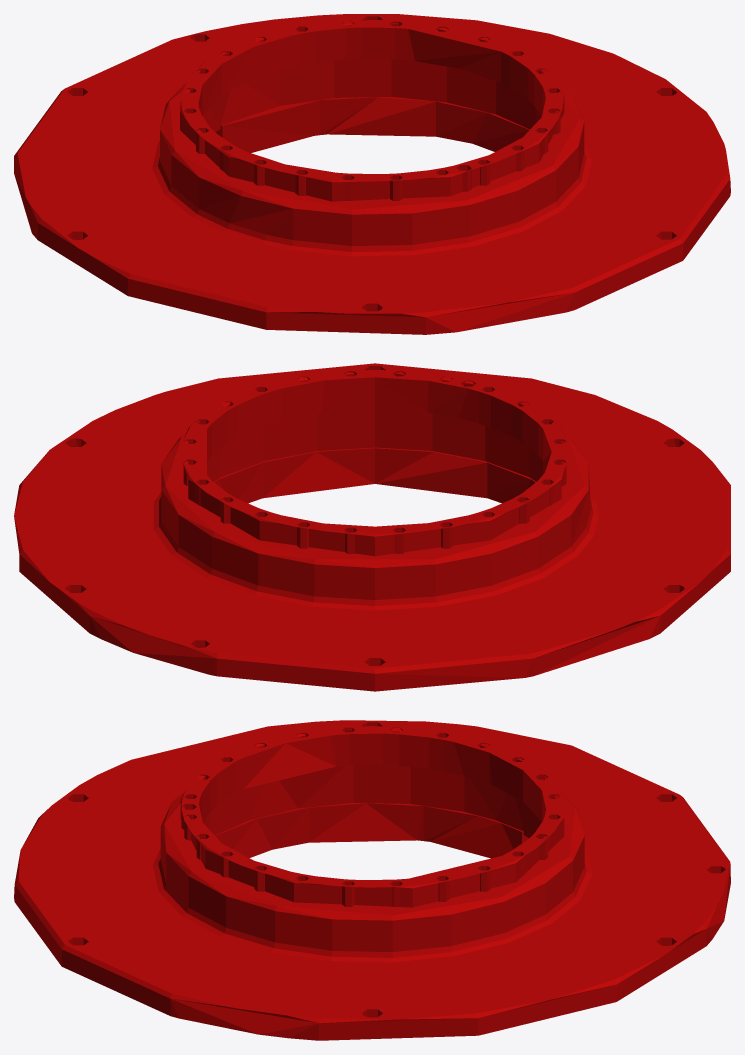
The model's file is manipulator_base_link.dae.
3 views of the same model, one above another, from view 1: azimuth 30°, elevation 25°; view 2: azimuth 150°, elevation 25°; view 3: azimuth 270°, elevation 25° (orthographic).
Parts seen in each view (by area): view 1: Manipulator_Base_Link; view 2: Manipulator_Base_Link; view 3: Manipulator_Base_Link.
Part boxes in pixels (x1,y1,x2,y2): Manipulator_Base_Link: (14, 14, 730, 334); Manipulator_Base_Link: (14, 363, 730, 691); Manipulator_Base_Link: (14, 720, 730, 1040).
Bounding box in the file's own units: 184 × 186 × 33.
